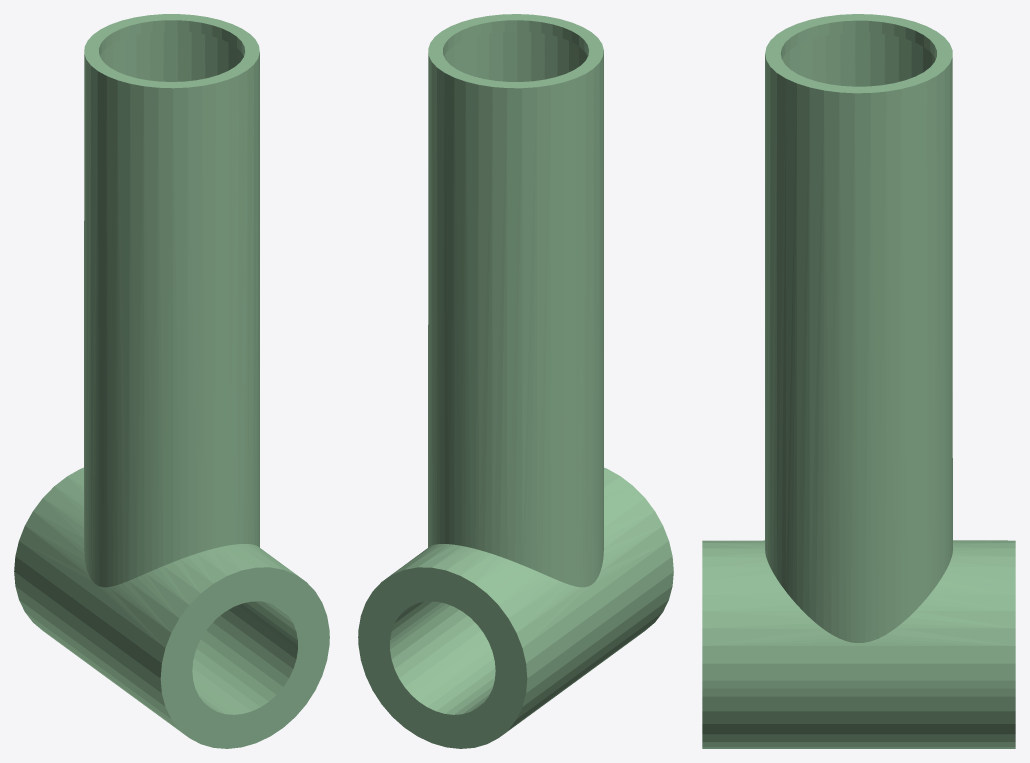
File: case-03_lib00004.glb
The picture shows the model from 3 angles, left to right: view 1: azimuth 30°, elevation 25°; view 2: azimuth 150°, elevation 25°; view 3: azimuth 270°, elevation 25°; orthographic projection. The views are drawn at different scales.
Parts seen in each view (by area): view 1: lib00004; view 2: lib00004; view 3: lib00004.
Part boxes in pixels (<box>): lib00004: <box>14,14,329,748</box>; lib00004: <box>358,14,673,748</box>; lib00004: <box>702,14,1015,748</box>.
Bounding box in the file's own units: 21.52 × 78 × 32.28.
